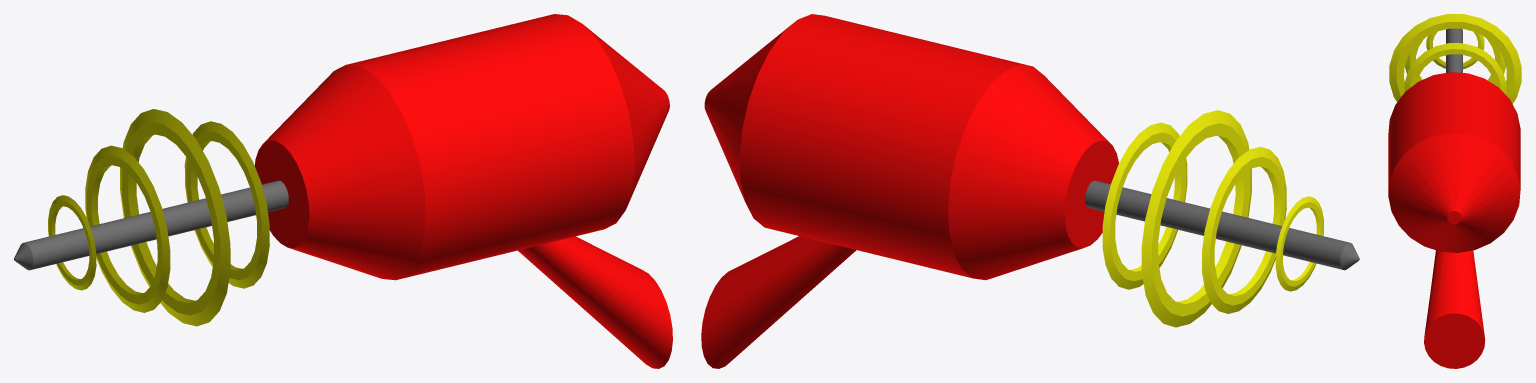
Rendered from raygun.fbx.
3 views of the same model, side by side, from view 1: azimuth 30°, elevation 25°; view 2: azimuth 150°, elevation 25°; view 3: azimuth 270°, elevation 25° (orthographic). The views are drawn at different scales.
Parts seen in each view (by area): view 1: Raygun1; view 2: Raygun1; view 3: Raygun1.
Boxes of the visible parts, x1=… form: Raygun1: x1=14, y1=14, x2=672, y2=368; Raygun1: x1=701, y1=14, x2=1359, y2=368; Raygun1: x1=1388, y1=14, x2=1521, y2=368.
Bounding box in the file's own units: 128 × 68.27 × 38.
